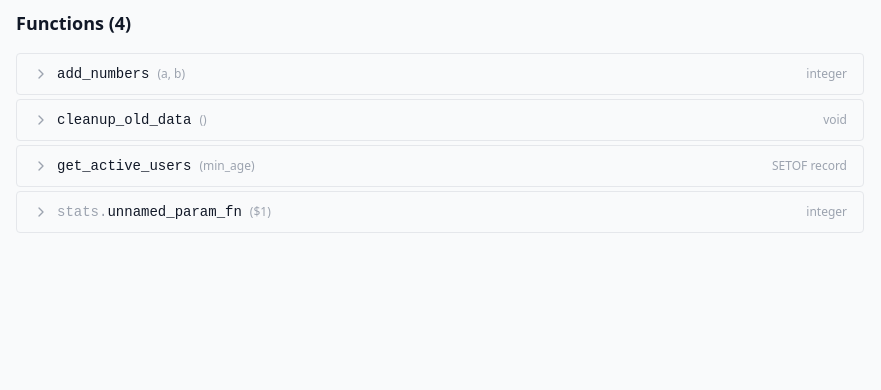
it: FunctionBrowser › executes void function and shows void result
This screenshot has width=881, height=390.
Click the text "cleanup_old_data". click: (124, 120)
box: [57,110,191,130]
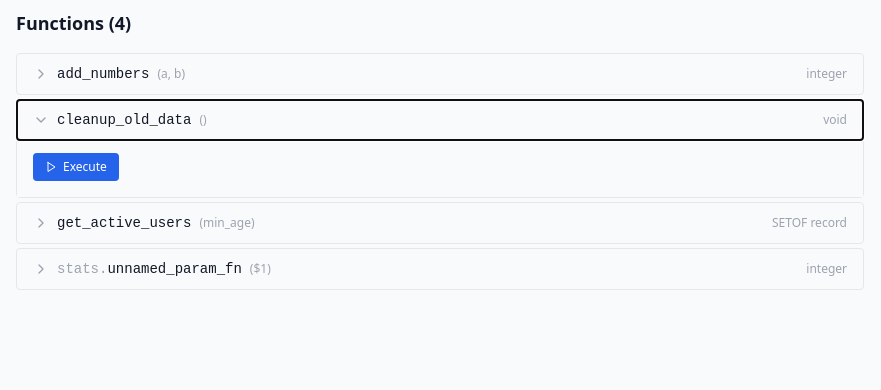
Click the button "Execute". click: (76, 167)
box: [33,153,119,181]
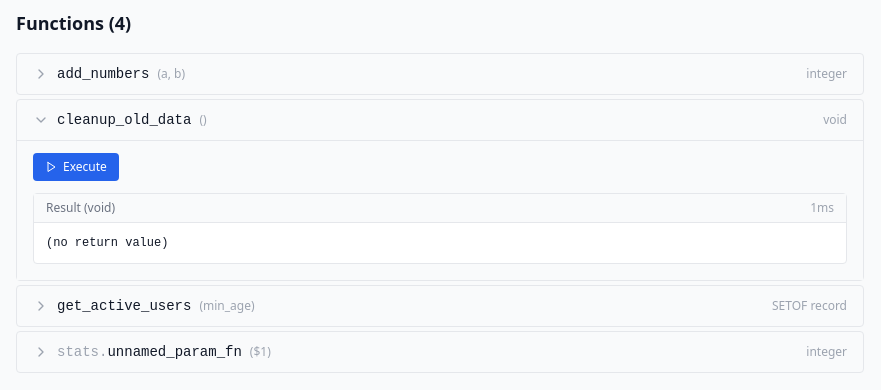
expect the text "(no return value)" is shown: met, box [46,236,168,250]
